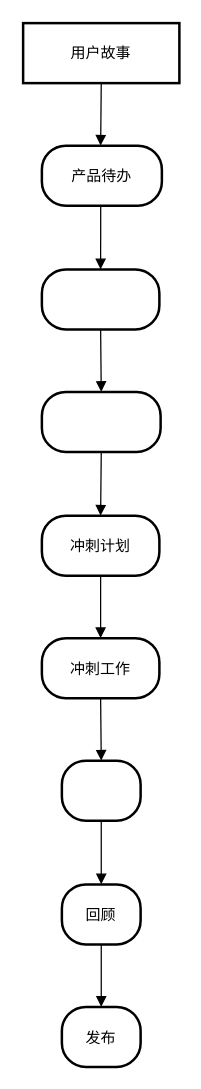
Some shapes in this 201 by 1089 pixel diagram are drawn without their labels. Here are the shapes that lost their labels. From the top down, the centre of each, then its label:
At point 100,299: "迭代计划".
At point 100,421: "每日站会".
At point 100,790: "演示".
